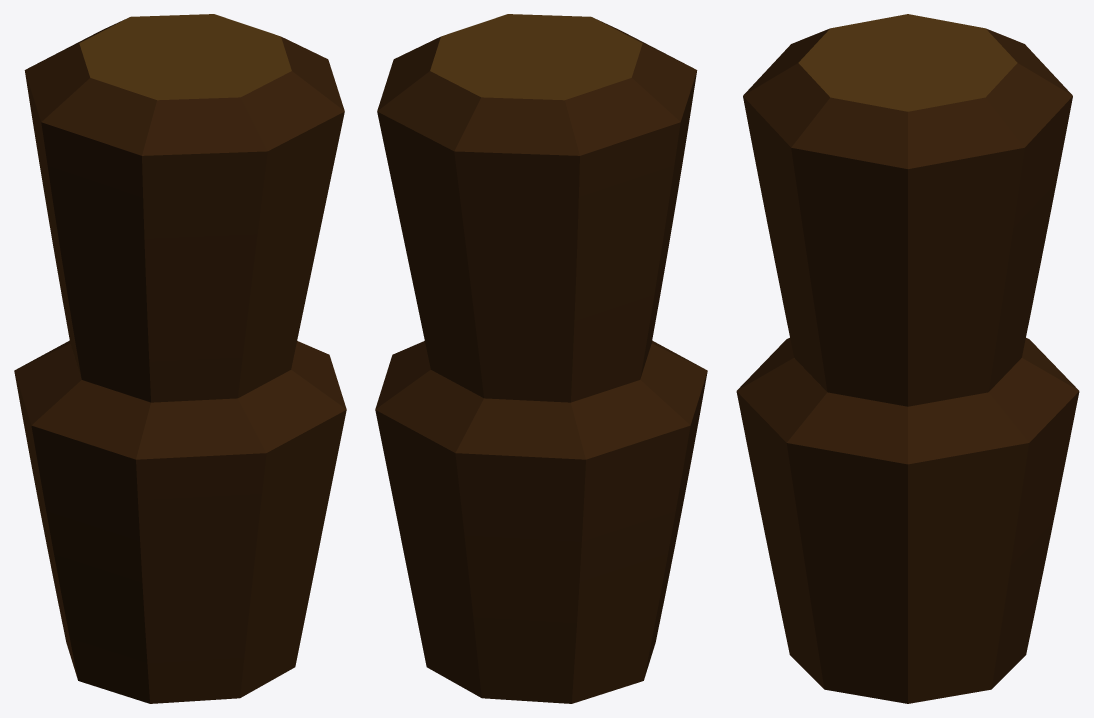
Rendered from palmera_talado.fbx.
3 renders of one model, left to right at view 1: azimuth 30°, elevation 25°; view 2: azimuth 150°, elevation 25°; view 3: azimuth 270°, elevation 25°, orthographic.
Parts seen in each view (by area): view 1: Cylinder073, Cylinder072; view 2: Cylinder073, Cylinder072; view 3: Cylinder073, Cylinder072.
Part boxes in pixels (bbox=[...]): Cylinder073: bbox=[24, 14, 344, 402]; Cylinder072: bbox=[14, 340, 346, 703]; Cylinder073: bbox=[377, 14, 697, 402]; Cylinder072: bbox=[375, 340, 707, 703]; Cylinder073: bbox=[743, 14, 1072, 406]; Cylinder072: bbox=[736, 338, 1079, 703].
Size of the model in its own units: 25.92 by 49.85 by 25.92.
